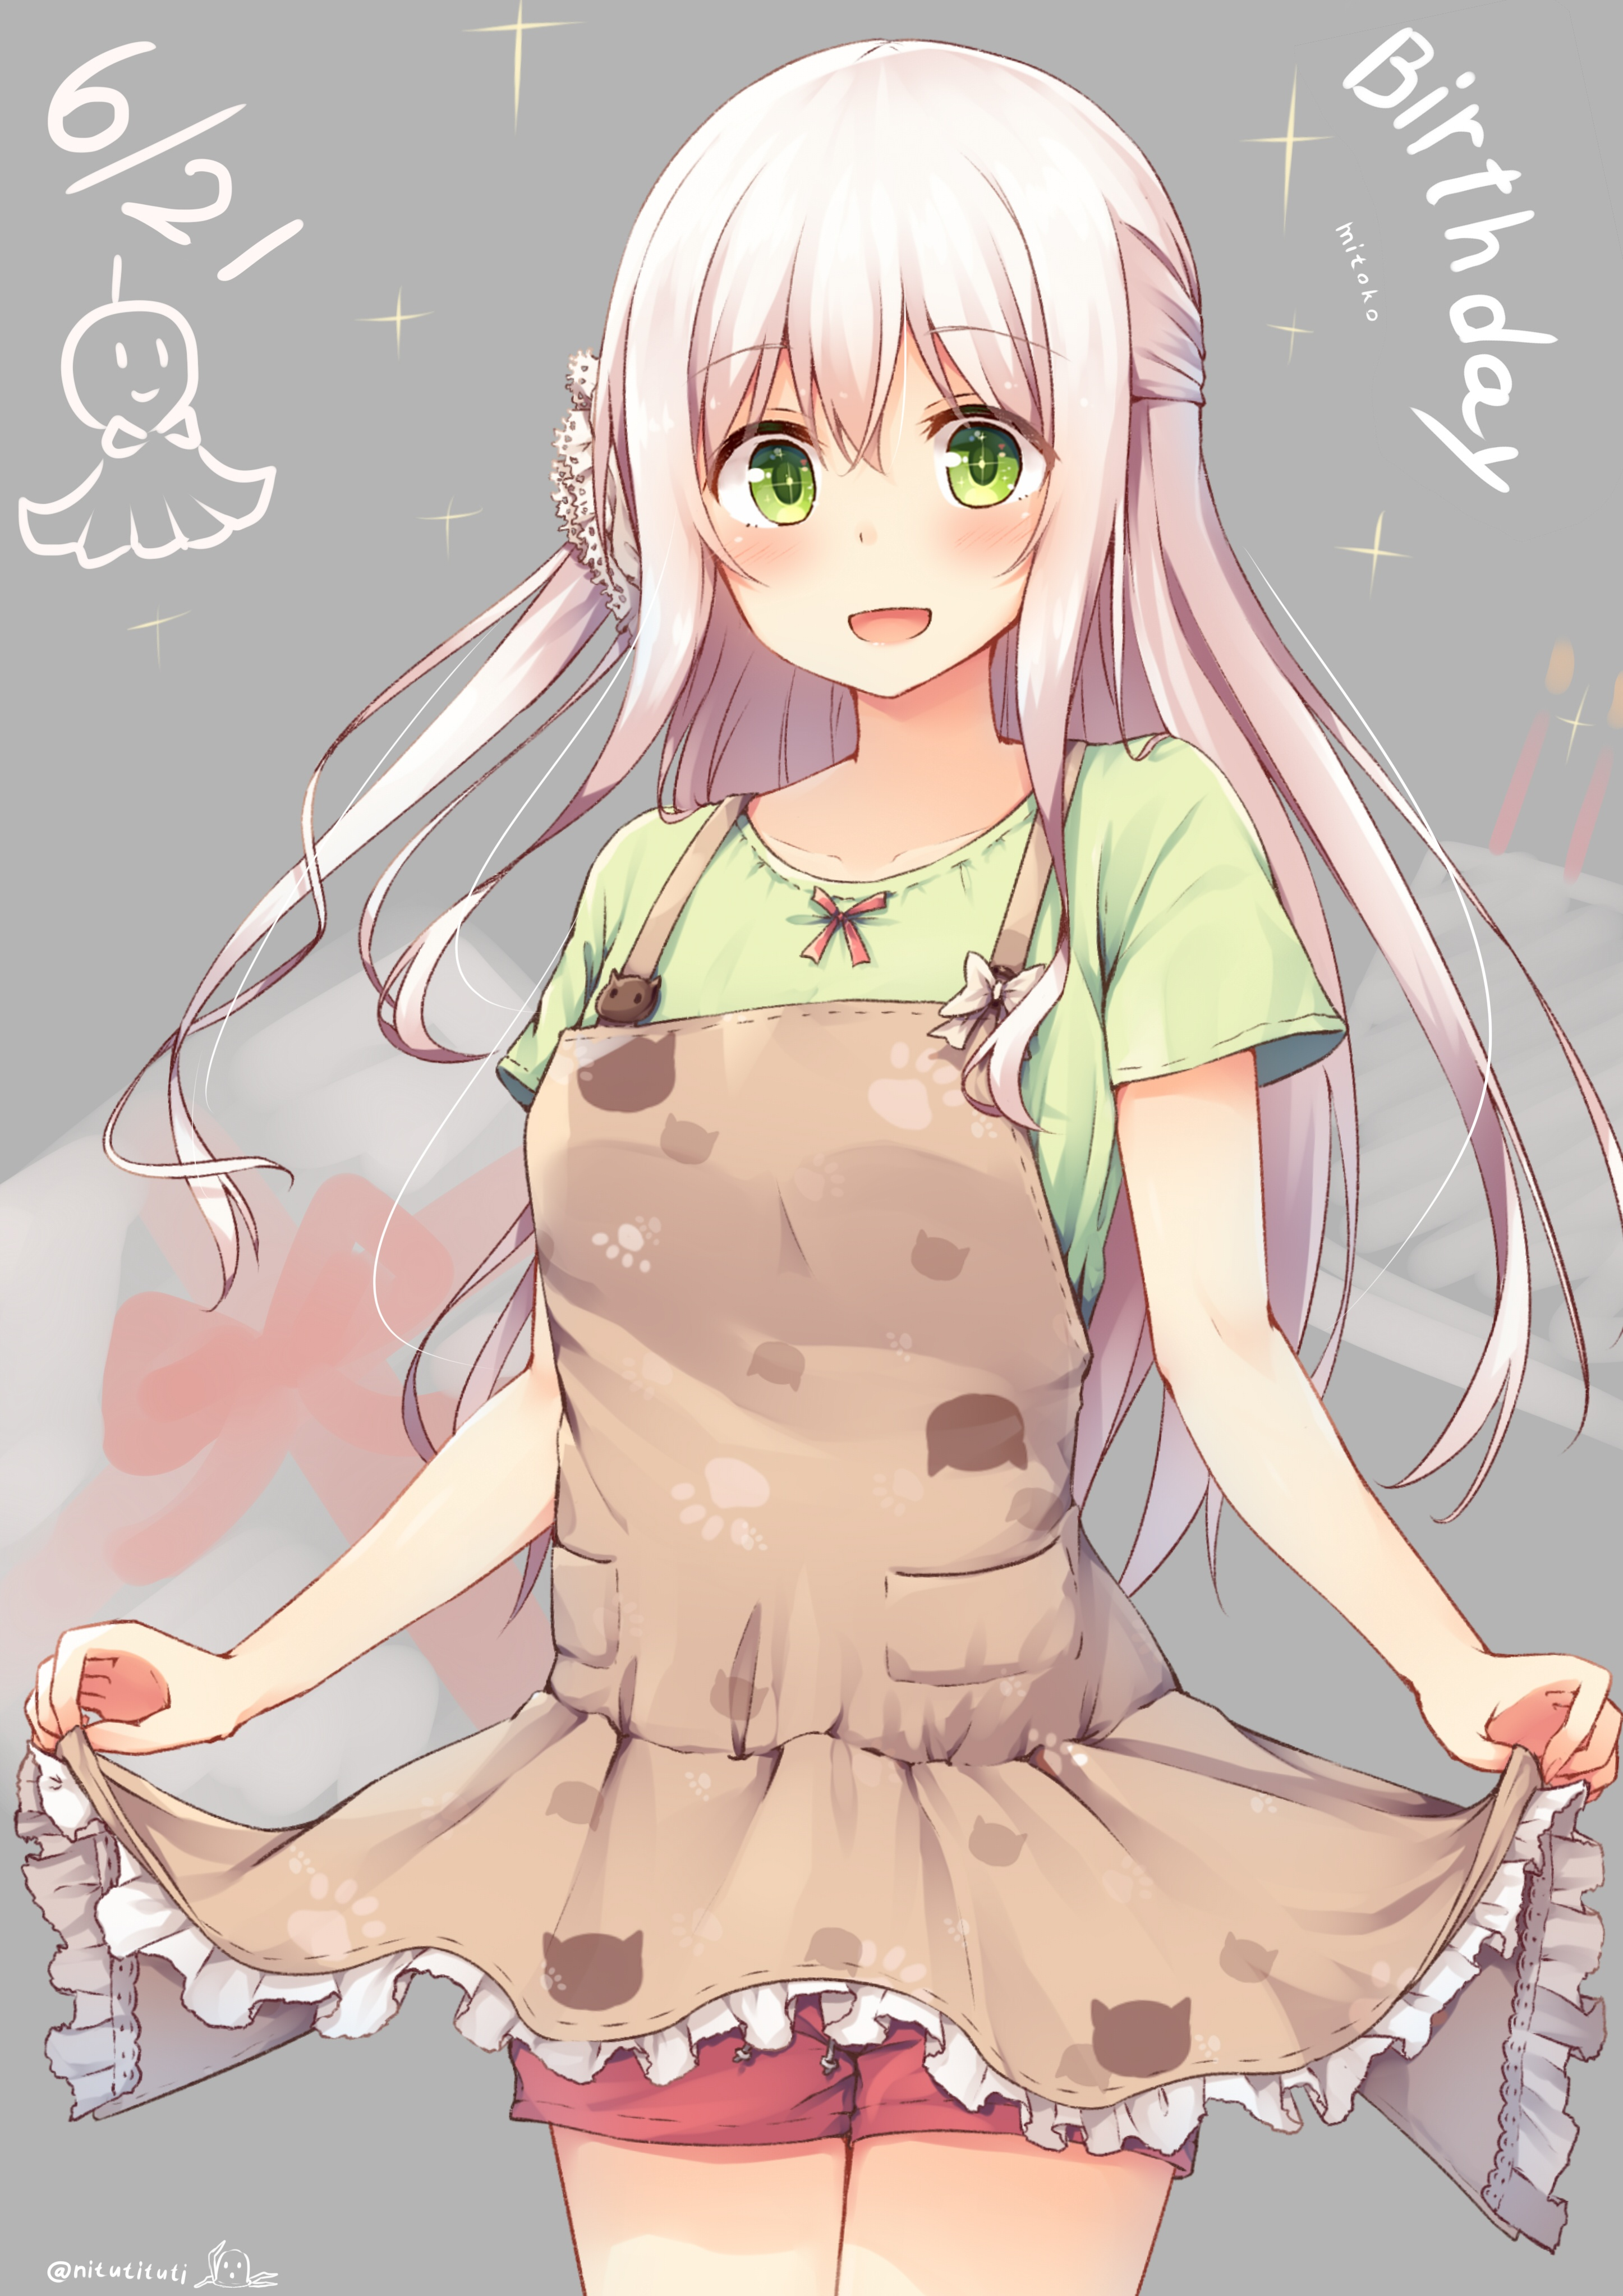纸片人正脸: (562, 13, 1211, 714)
